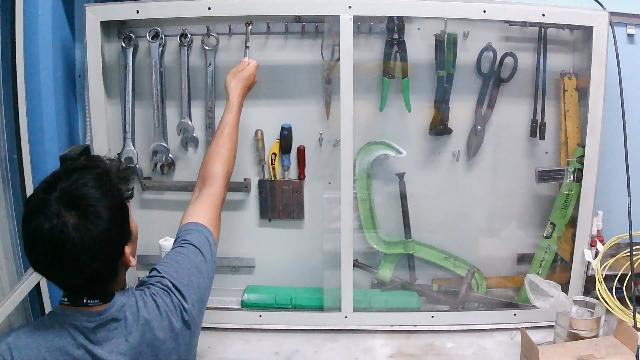kunci_pass_13: (222, 20, 268, 98)
